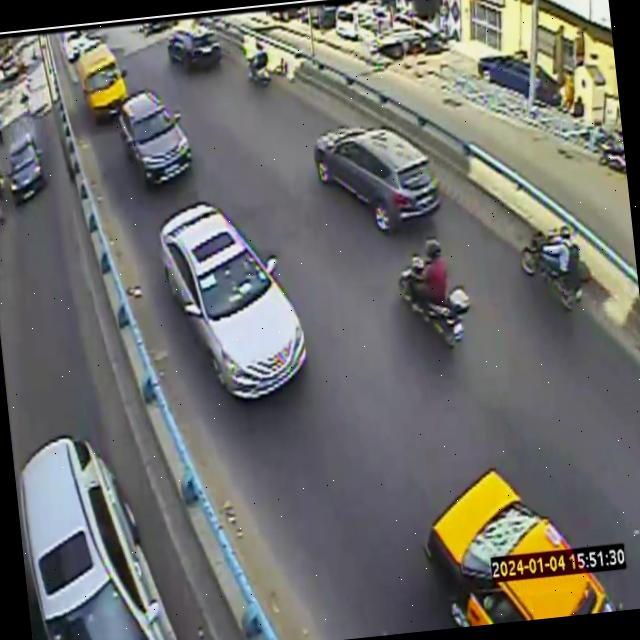car: (423, 468, 617, 626), (159, 203, 304, 398), (313, 126, 439, 232), (119, 89, 191, 185), (76, 43, 127, 121), (168, 26, 222, 72)
